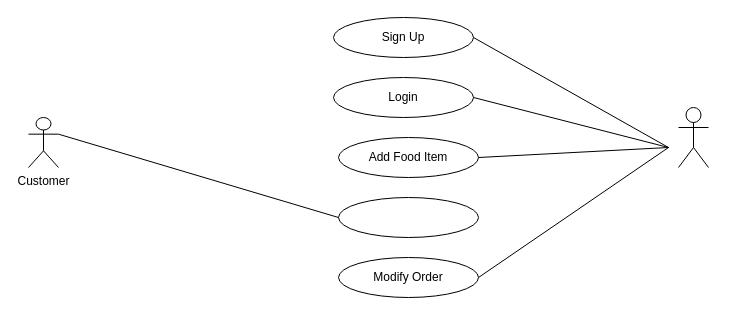
This 737x315 diagram has some shape labels left out. Here are the shapes that lost their labels. From the top down, the centre of each, then its label:
At point (693, 137): "Employee".
At point (408, 217): "Place Order".
